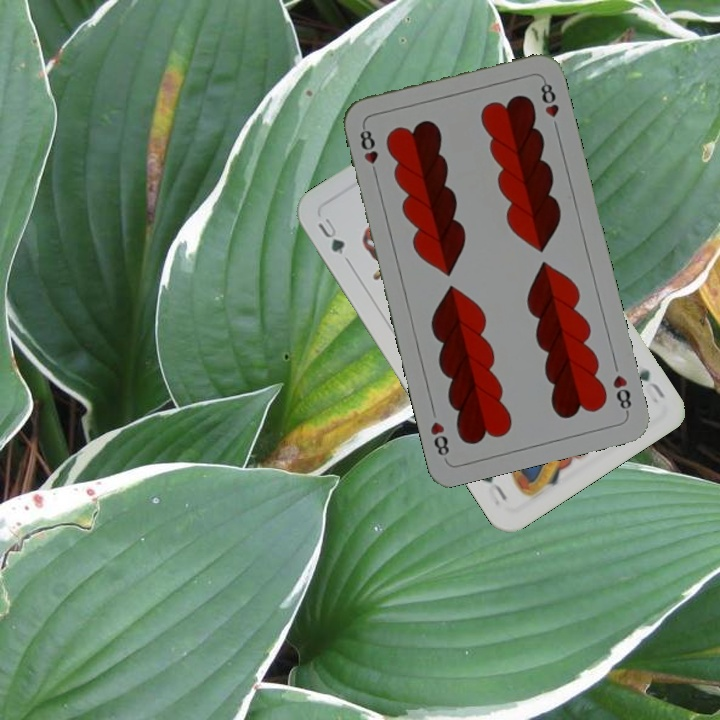GU: (313, 213, 348, 258), (634, 365, 668, 406)
H8: (356, 122, 381, 180), (608, 371, 634, 416)
